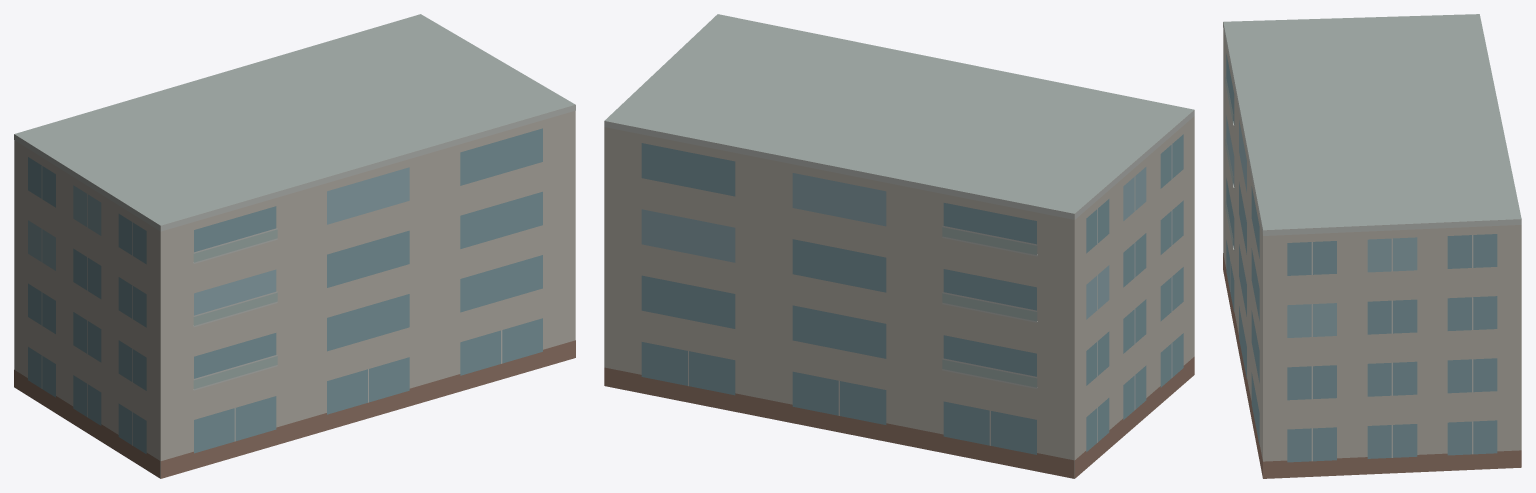
File: survey-upis-32757674.glb
3 renders of one model, left to right at view 1: azimuth 30°, elevation 25°; view 2: azimuth 150°, elevation 25°; view 3: azimuth 270°, elevation 25°, orthographic. The views are drawn at different scales.
Parts seen in each view (by area): view 1: survey-upis-32757674.tmp; view 2: survey-upis-32757674.tmp; view 3: survey-upis-32757674.tmp.
Part boxes in pixels (x1,y1,x2,y2): survey-upis-32757674.tmp: (14,14,575,478); survey-upis-32757674.tmp: (604,14,1194,478); survey-upis-32757674.tmp: (1223,14,1521,478).
Size of the model in its own units: 19.6 by 10.5 by 11.43.
